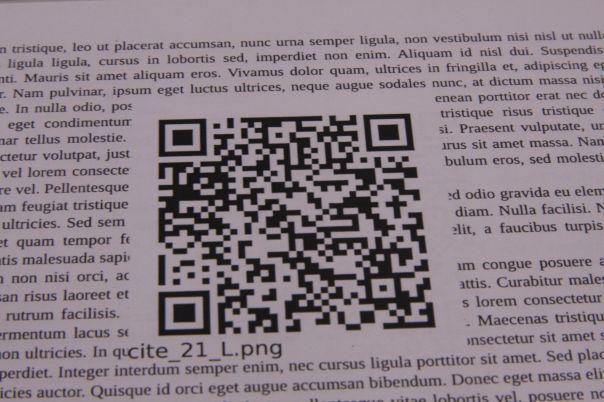qr_code: (158, 113, 438, 337)
